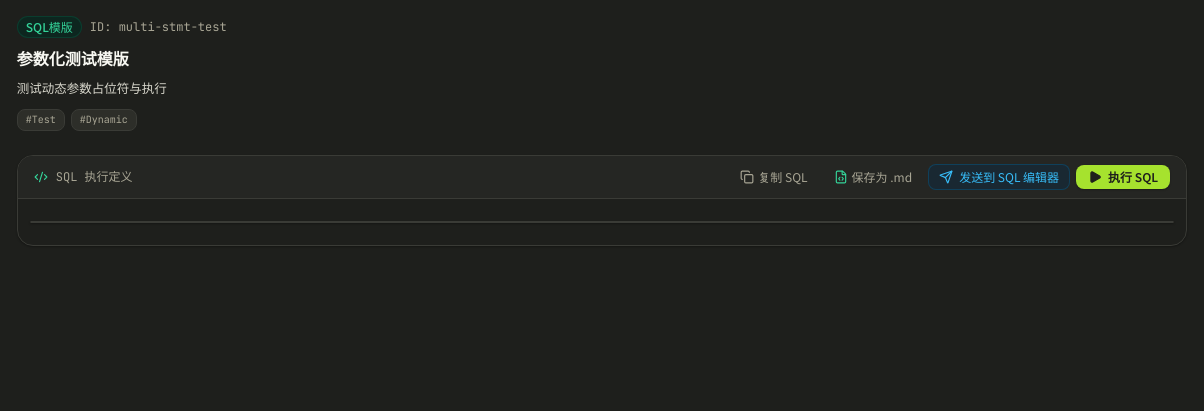
CodeAssetDetail › executes multi-statement SQL sequentially and displays final result set
Click the button "执行 SQL". click: (1123, 177)
box: top-left (1076, 165), bottom-right (1170, 189)
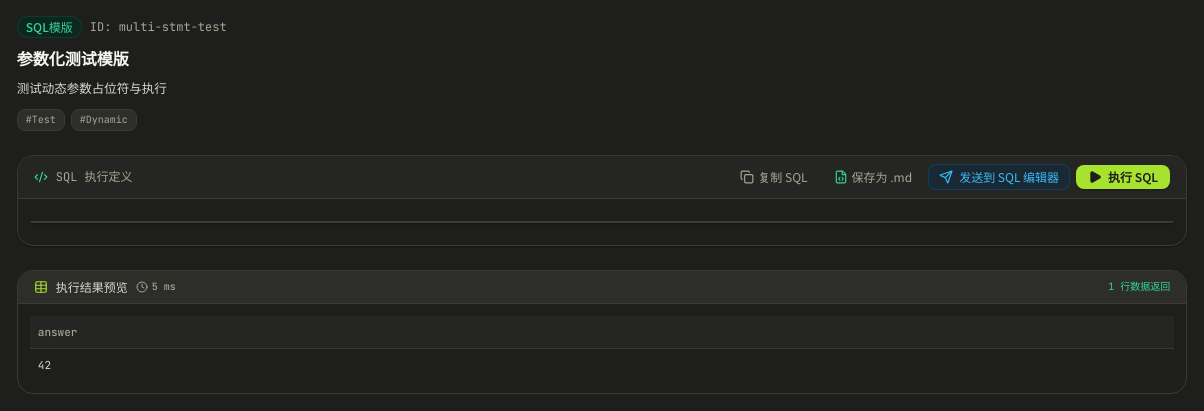
Now the text "42" is shown, box top-left (30, 348), bottom-right (1174, 381)
